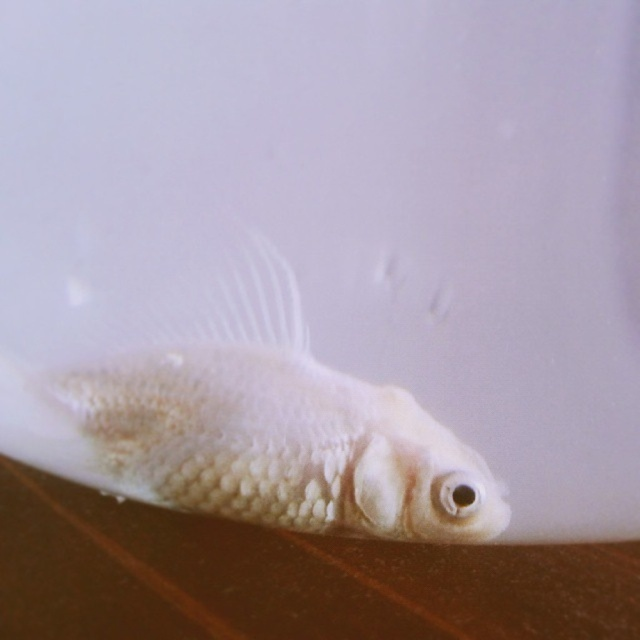Fish: (48, 237, 515, 536)
